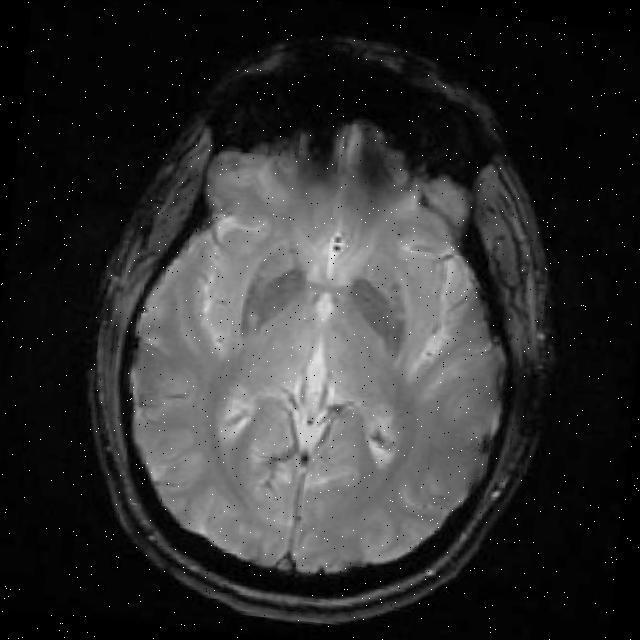LMCI: (226, 245, 316, 344)
MCI: (299, 116, 421, 192), (342, 275, 406, 333)
